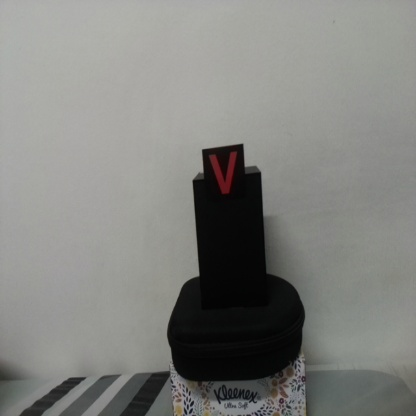id_11: (202, 149, 245, 203)
